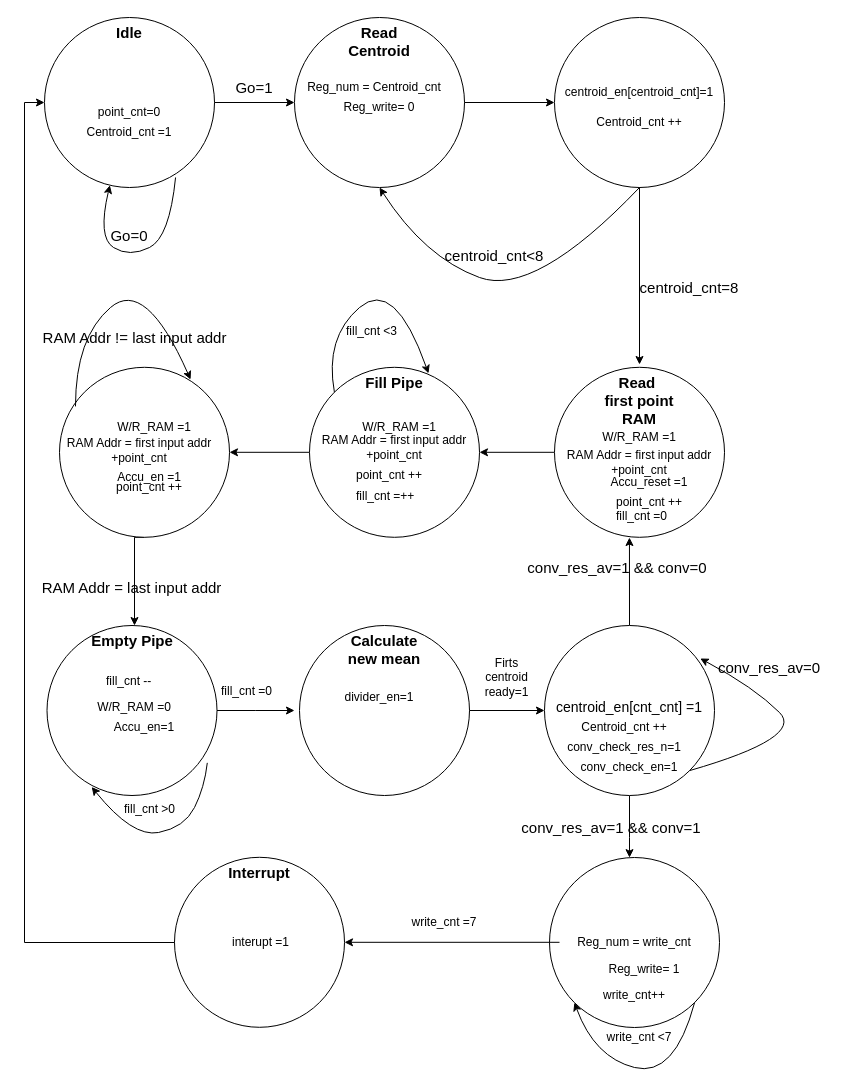
Image size: 852x1087. Some labels were removed from this diagram. Each missing label, with the box of its shape:
Classify remaining points: (58, 366, 230, 537)
New centroid write & convergence check: (544, 624, 714, 796)
Write Centroid: (554, 16, 724, 188)
Write new centroids to Reg fie: (548, 856, 720, 1028)
